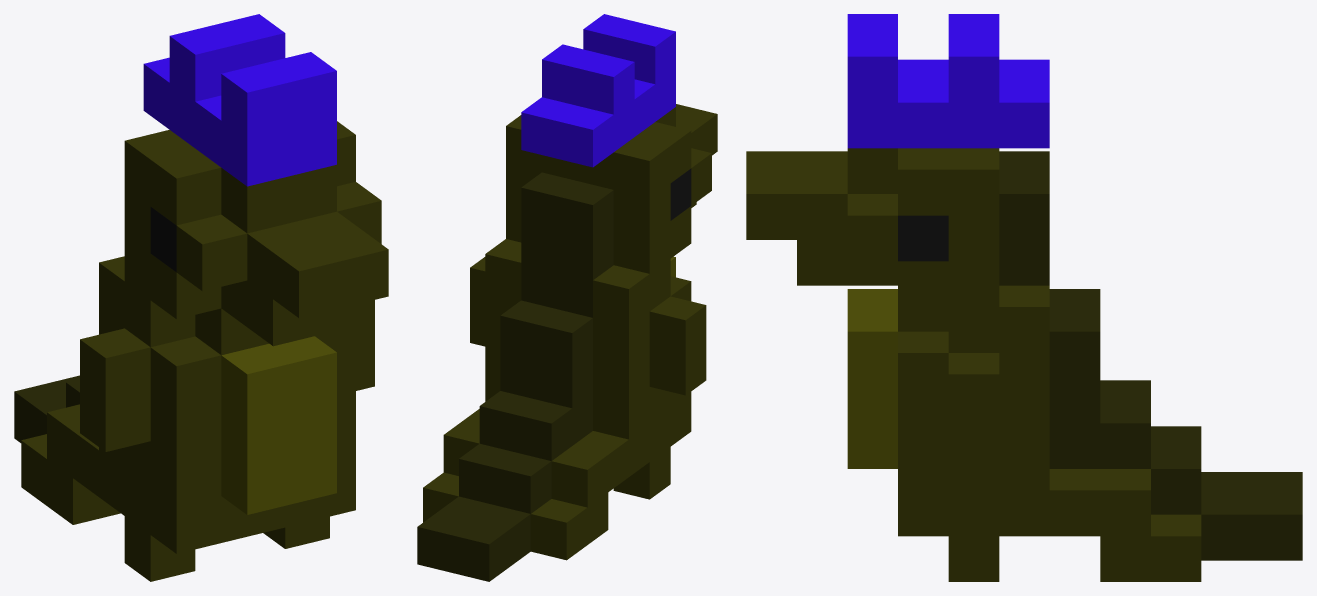
The model's file is RockCroco.obj.
3 views of the same model, side by side, from view 1: azimuth 30°, elevation 25°; view 2: azimuth 150°, elevation 25°; view 3: azimuth 270°, elevation 25° (orthographic). The views are drawn at different scales.
Bounding box in the file's own units: 0.6 × 1.1 × 1.1.
Materials: 1 (1 with a texture image).
